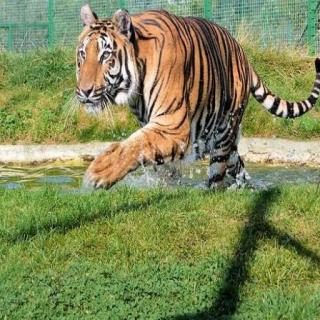Tiger: (67, 0, 320, 202)
